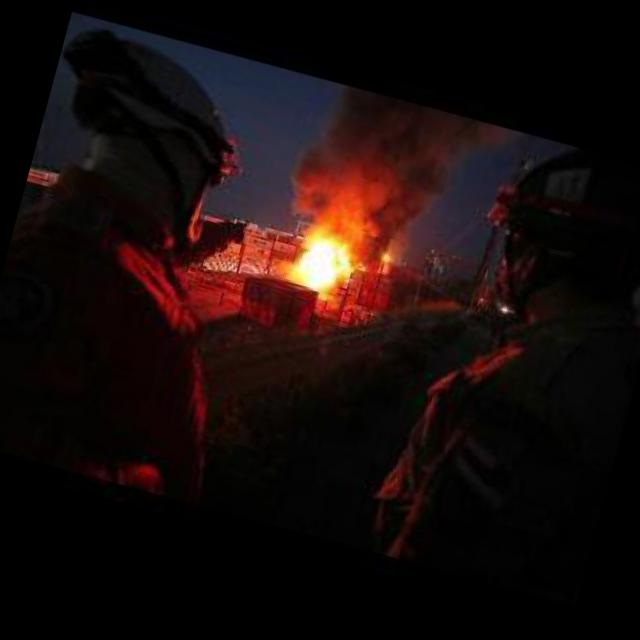fire: (284, 229, 358, 297)
smoke: (278, 70, 492, 270)
